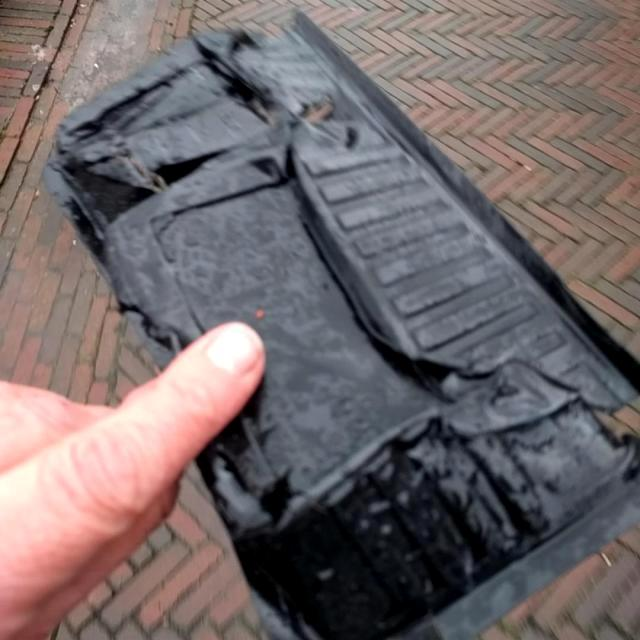Plastic: (42, 5, 640, 639)
